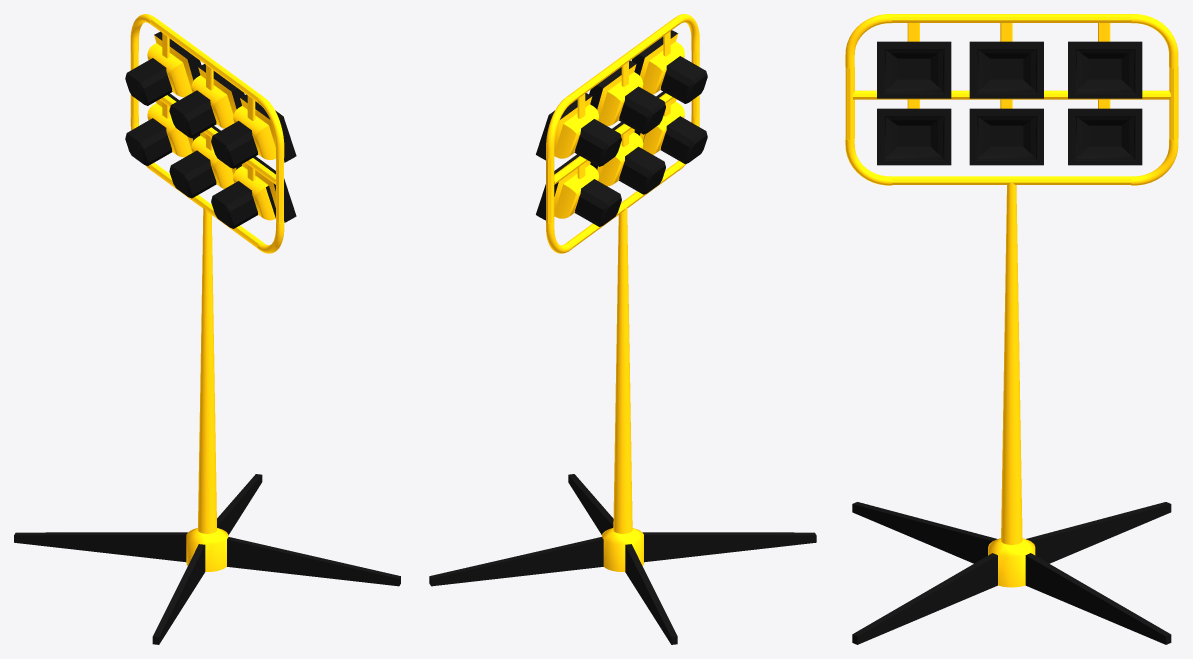
File: Stand_Light.fbx
The picture shows the model from 3 angles, left to right: view 1: azimuth 30°, elevation 25°; view 2: azimuth 150°, elevation 25°; view 3: azimuth 270°, elevation 25°; orthographic projection. The views are drawn at different scales.
Visible parts, largest first — view 1: StandLight, Stand_Light_Top, Stand_Light_Bottom; view 2: StandLight, Stand_Light_Top, Stand_Light_Bottom; view 3: StandLight, Stand_Light_Top, Stand_Light_Bottom.
Boxes of the visible parts, bbox=[...] form: StandLight: bbox=[14, 14, 400, 644]; Stand_Light_Top: bbox=[125, 31, 296, 168]; Stand_Light_Bottom: bbox=[125, 93, 296, 228]; StandLight: bbox=[429, 14, 816, 644]; Stand_Light_Top: bbox=[536, 30, 707, 166]; Stand_Light_Bottom: bbox=[536, 91, 707, 226]; StandLight: bbox=[845, 14, 1178, 644]; Stand_Light_Top: bbox=[877, 41, 1142, 98]; Stand_Light_Bottom: bbox=[877, 108, 1142, 165].
Bounding box in the file's own units: 0.6427 × 1.25 × 0.671.
